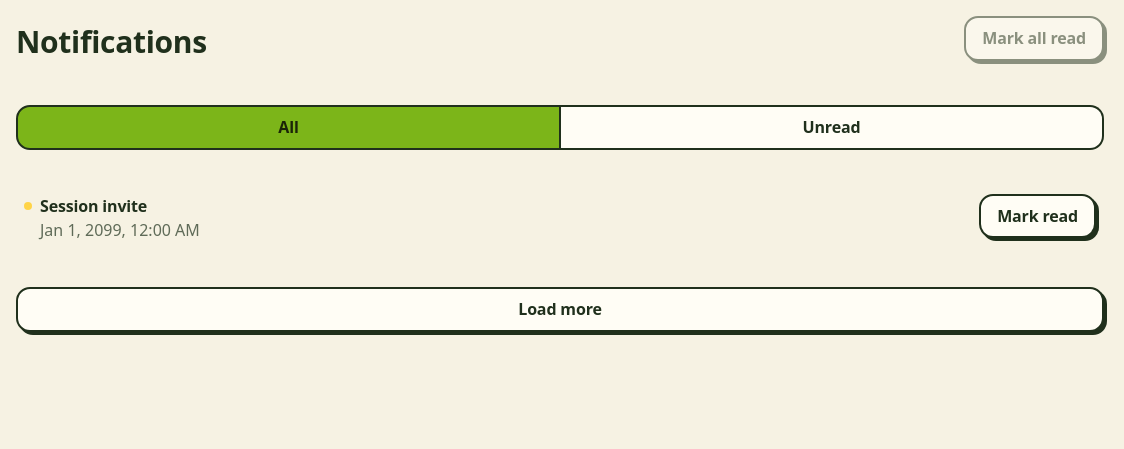
Test: NotificationCenterPage — load-more cursor survives a failed page (F3) › keeps the Load-more control visible after a failed load-more fetch instead of hiding it permanently
Click the button "Load more": (560, 310) [16,287,1104,332]
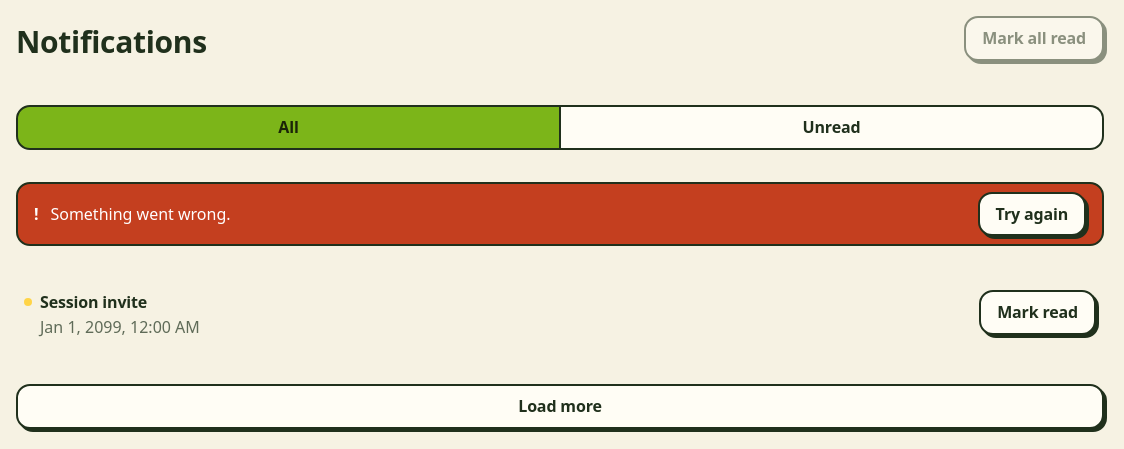
Expected: the button "Load more" is shown, [16,384,1104,429]
Expected: the message "Something went wrong." is shown, [50,203,230,225]
